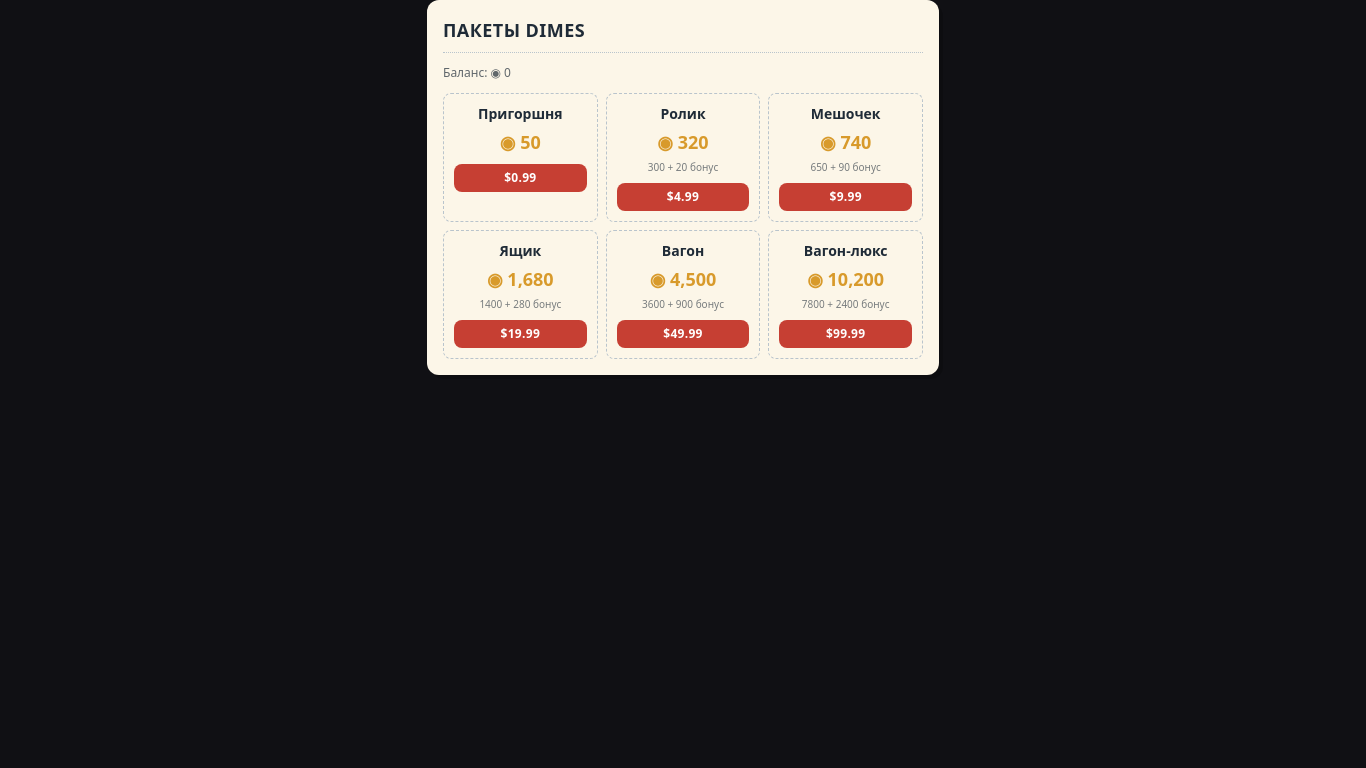
Test: DimesShop (§9) › FAIL в dev-диалоге не вызывает verifyPurchase
Step 1. Click the button with test id "dimes-package-buy-dimes_handful" → click(520, 178), box x1=454 y1=164 x2=587 y2=192
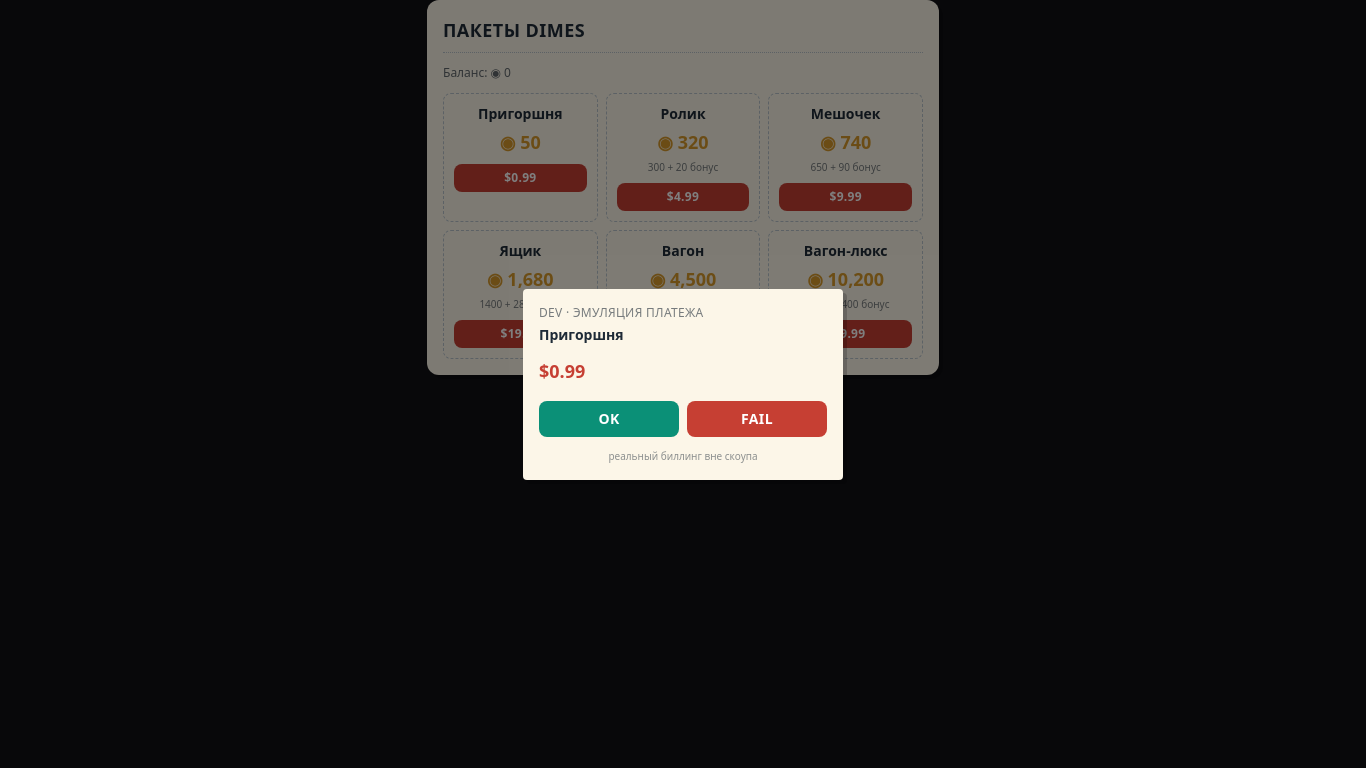
Step 2. Click the button with test id "dev-payment-fail" → click(757, 418), box x1=687 y1=400 x2=827 y2=436
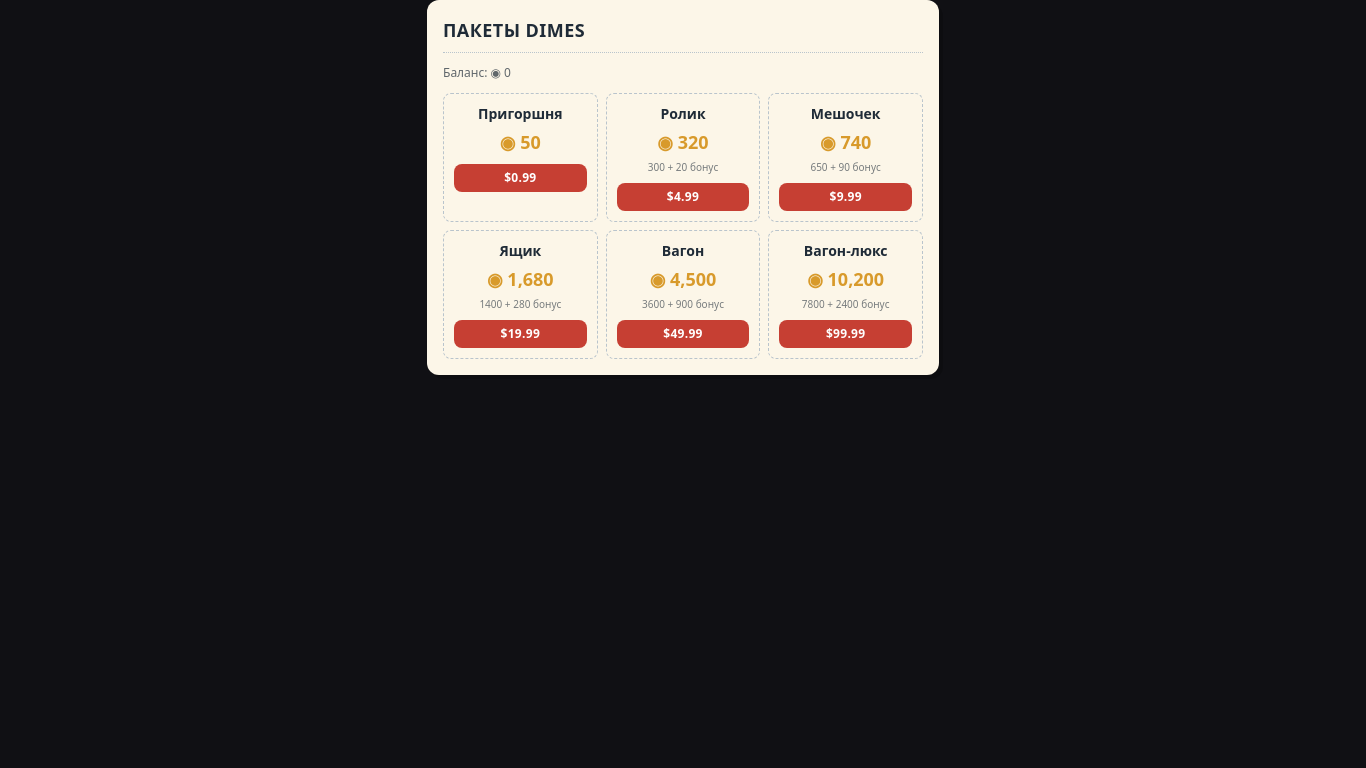
expect the element with test id "dev-payment-dialog" is gone: met
